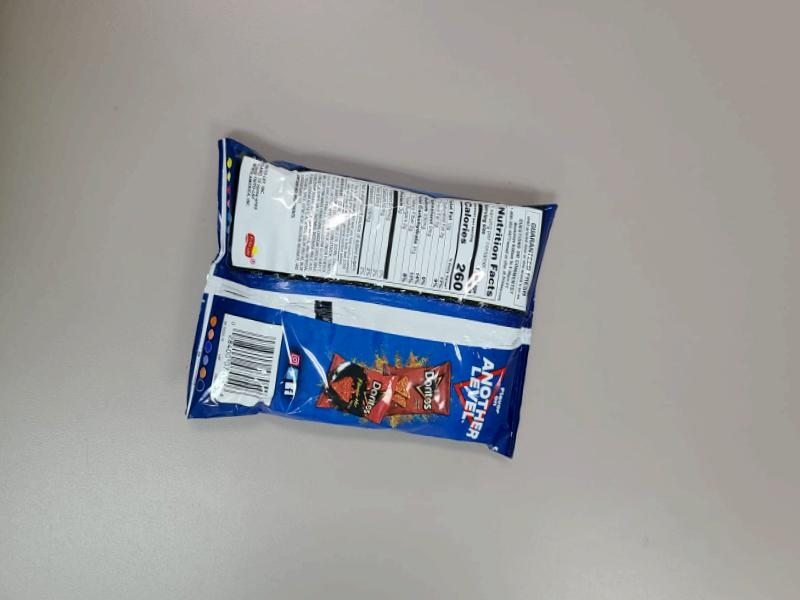doritos: (172, 150, 557, 481)
